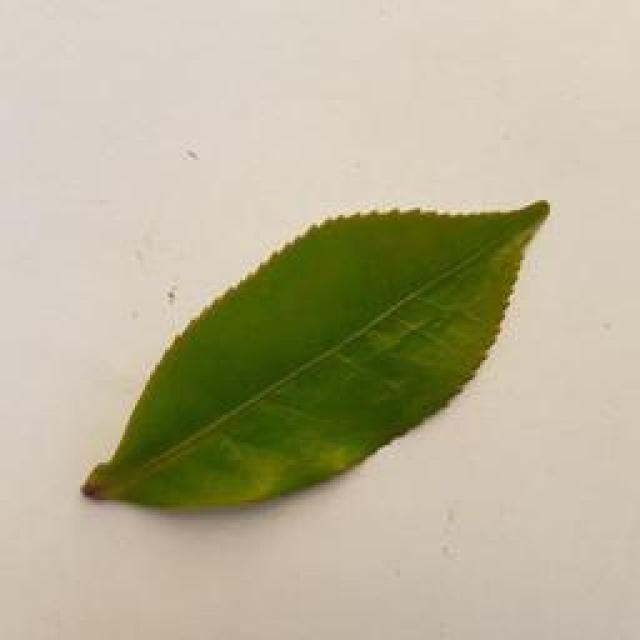Healthy: (88, 197, 540, 510)
